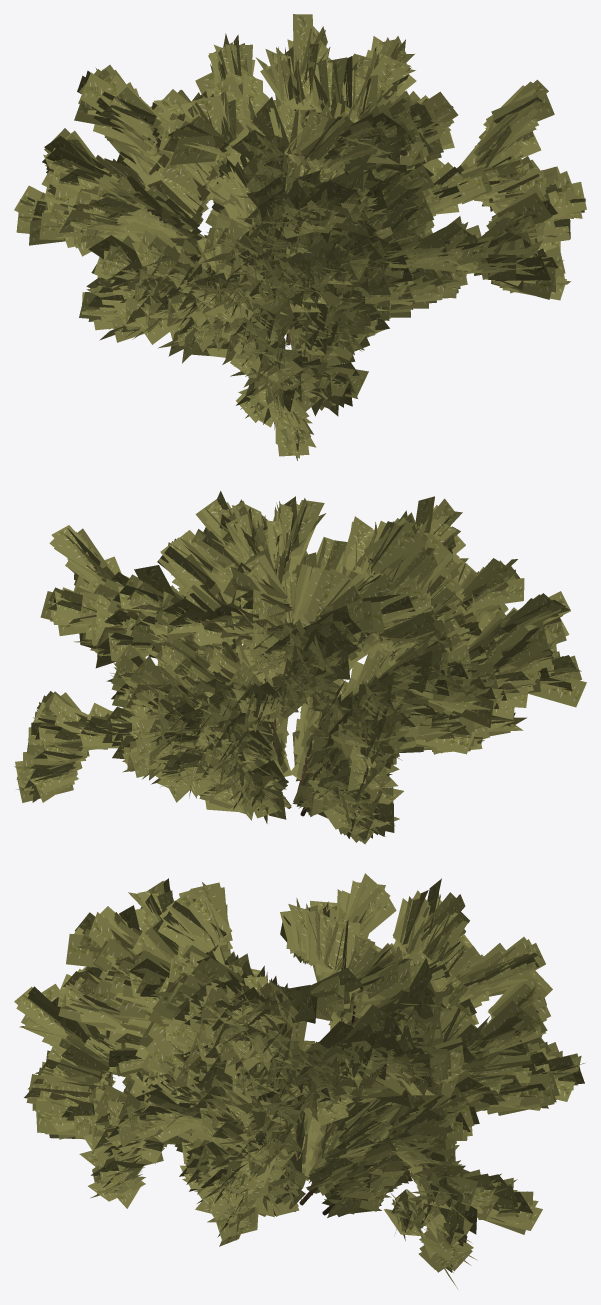
The model's file is thorn_scrub_v02.fbx.
3 views of the same model, one above another, from view 1: azimuth 30°, elevation 25°; view 2: azimuth 150°, elevation 25°; view 3: azimuth 270°, elevation 25° (orthographic). The views are drawn at different scales.
Visible parts, largest first — view 1: thorn_scrub_v02; view 2: thorn_scrub_v02; view 3: thorn_scrub_v02.
Boxes of the visible parts, <box> form: thorn_scrub_v02: <box>14,14,586,460</box>; thorn_scrub_v02: <box>14,491,586,844</box>; thorn_scrub_v02: <box>14,873,584,1288</box>.
Bounding box in the file's own units: 371 × 200 × 362.
2 materials, 2 textured.
